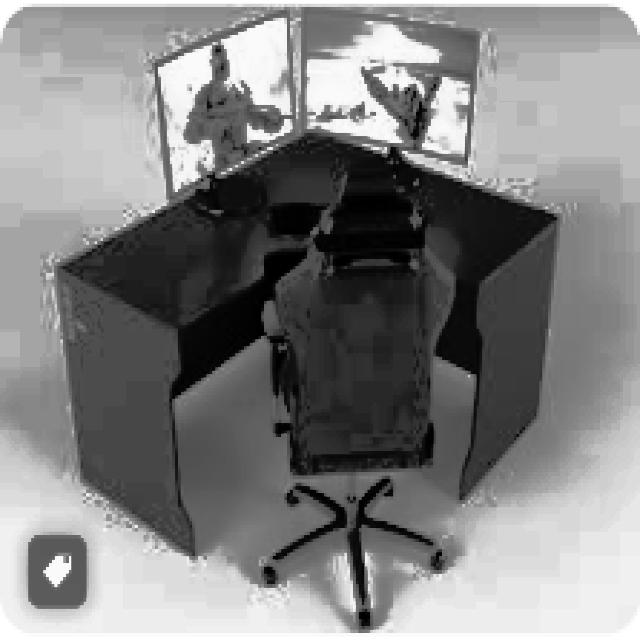table: (54, 126, 560, 556)
